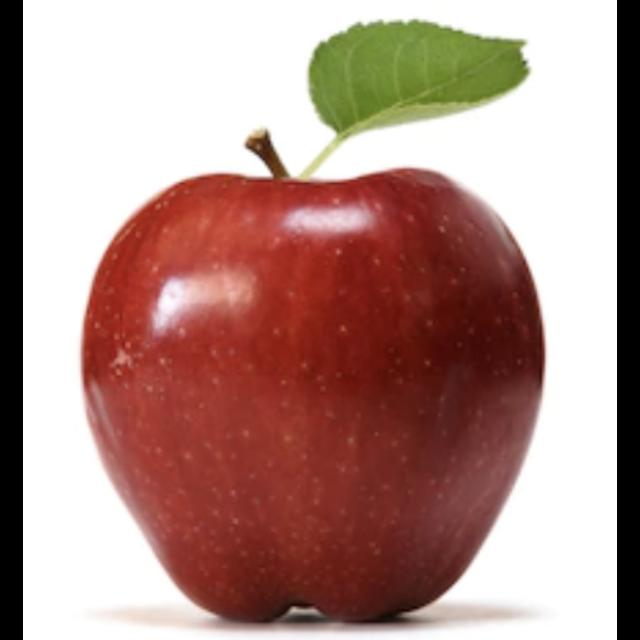Apel Segar: (68, 125, 554, 633)
